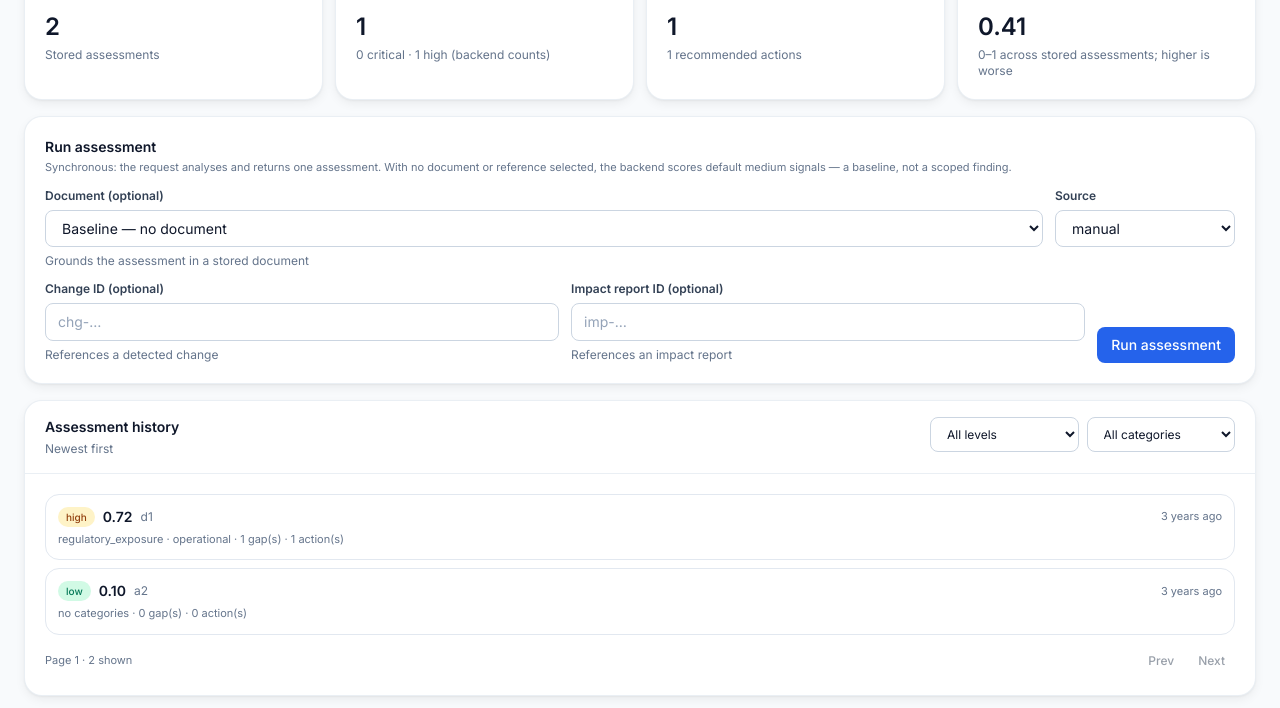
assessment › 18+19+20. drivers, gaps, and actions render from real fields
(page scrolled)
Expected: the button "Run assessment" is shown, [1097, 326, 1235, 362]
Expected: the text "d1" is shown, [140, 508, 153, 524]
Click the button "d1" at [76, 516], box [45, 494, 1235, 560]
(page scrolled)
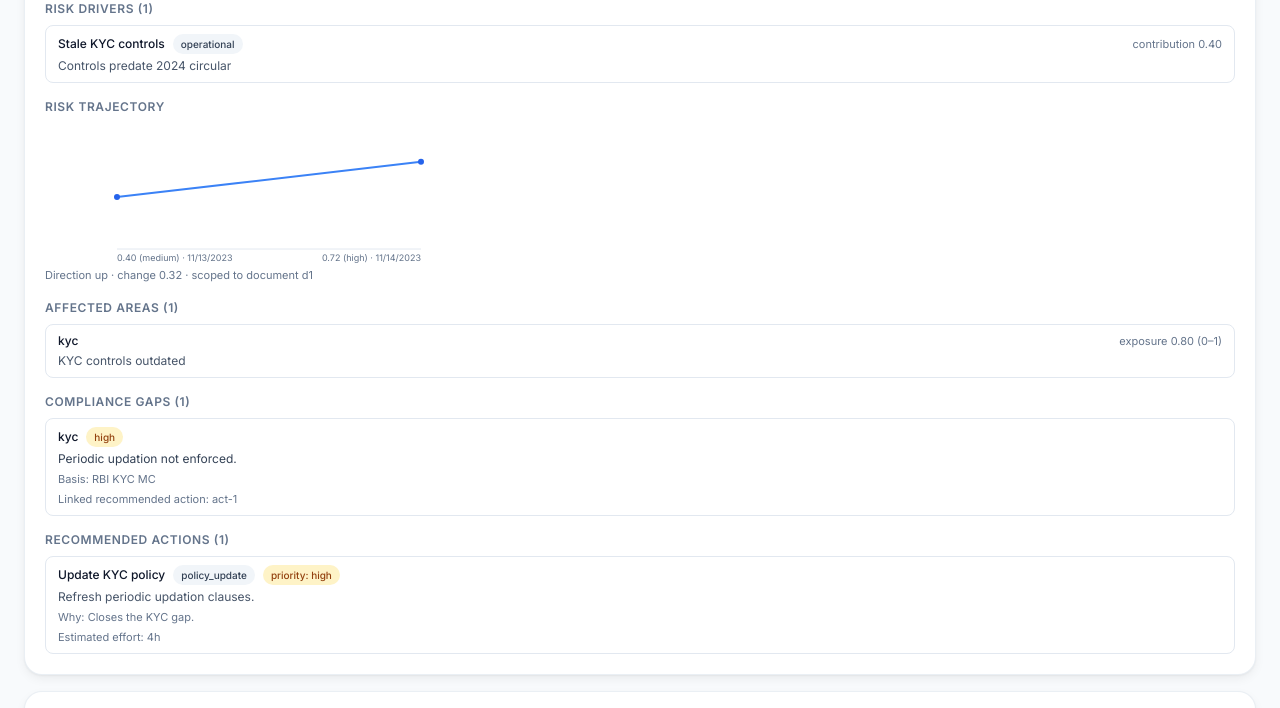
Now the text "Stale KYC controls" is shown, box [58, 36, 165, 52]
Now the text "Periodic updation not enforced." is shown, box [58, 451, 237, 466]
Now the text "Basis: RBI KYC MC" is shown, box [58, 472, 156, 486]
